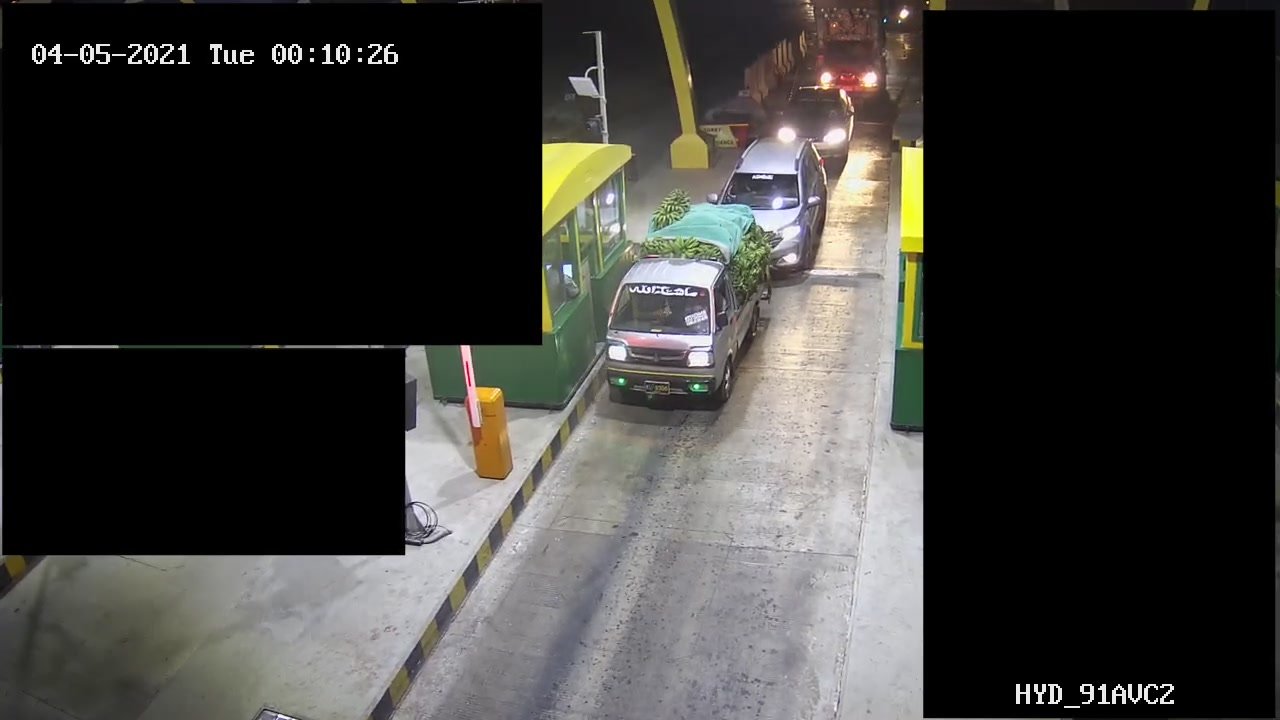F1: (597, 200, 769, 406)
